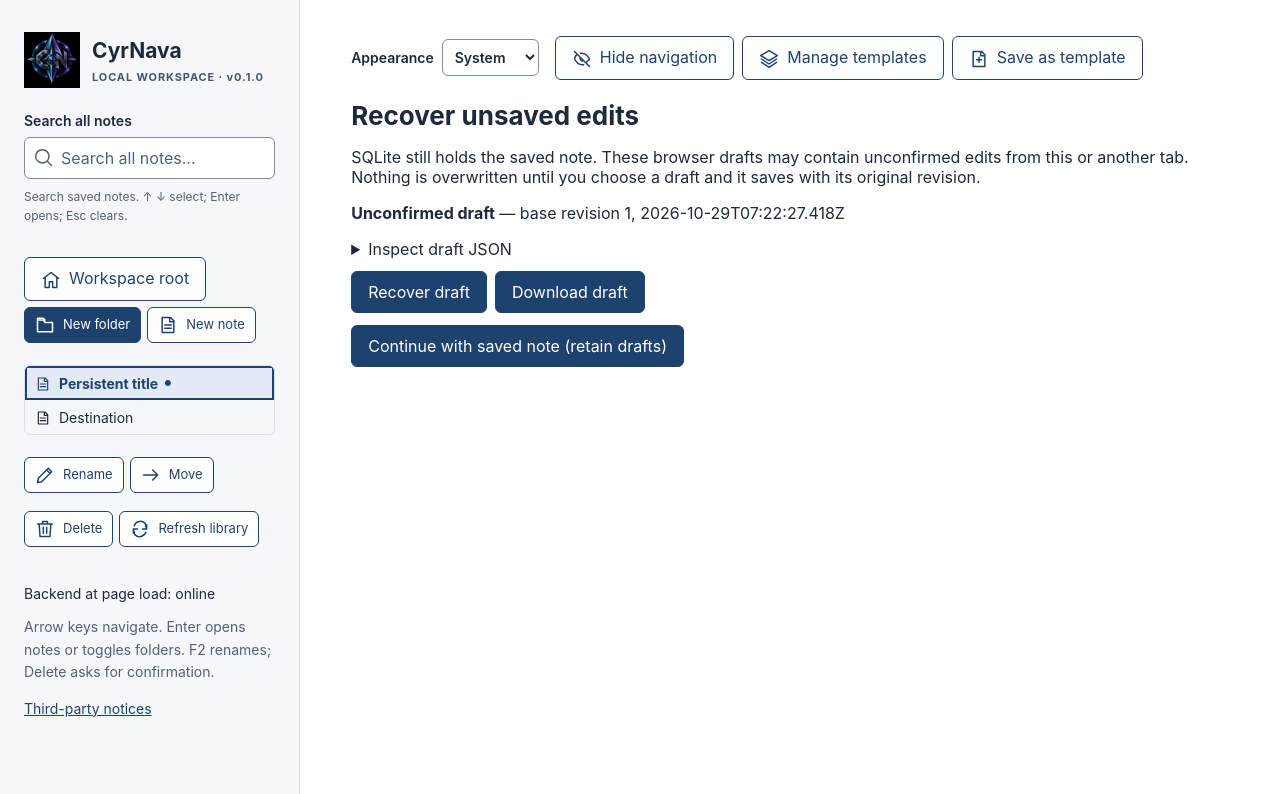
F-09 search navigation › cannot bypass pending draft recovery by choosing a search result
Type "matching" into the dropdown labelled "Search all notes" at (150, 158), box [24,137,275,179]
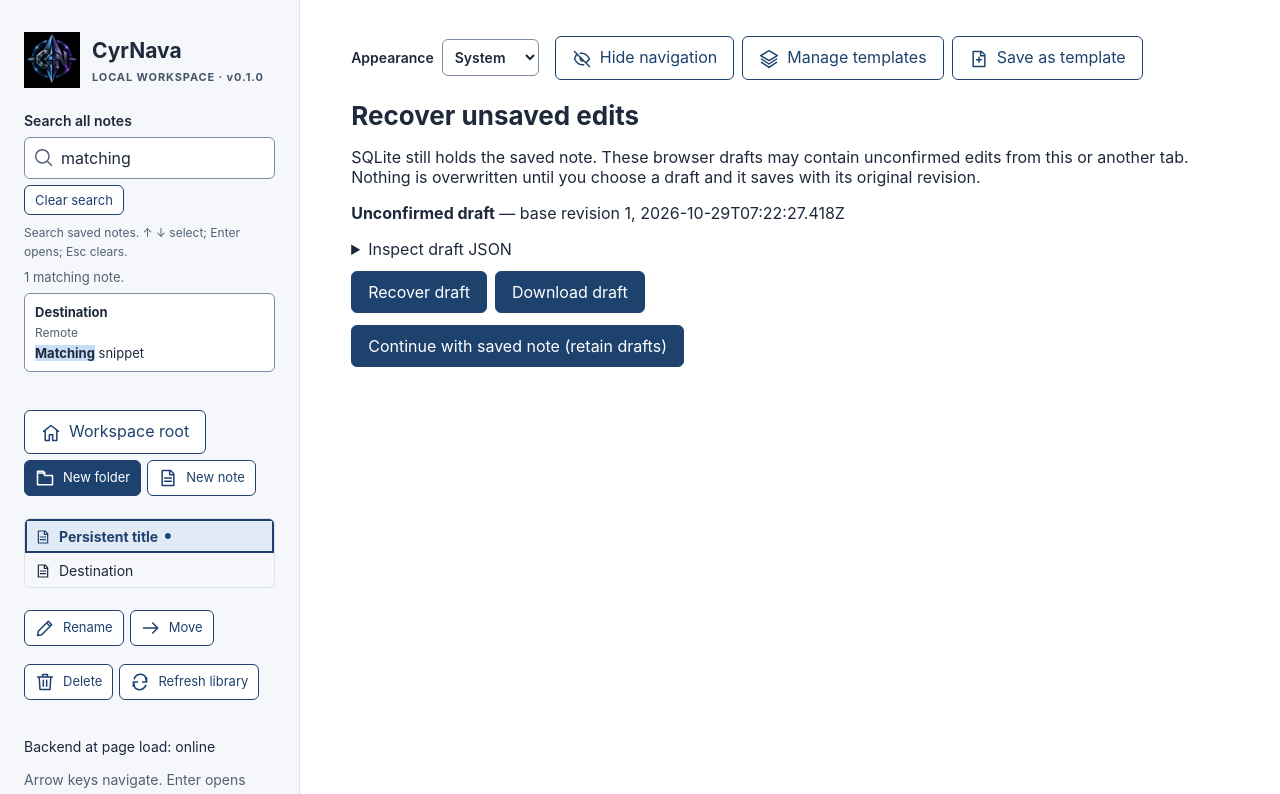
Click the option "Destination Remote Matching snippet" at (150, 333), box [24,293,275,372]
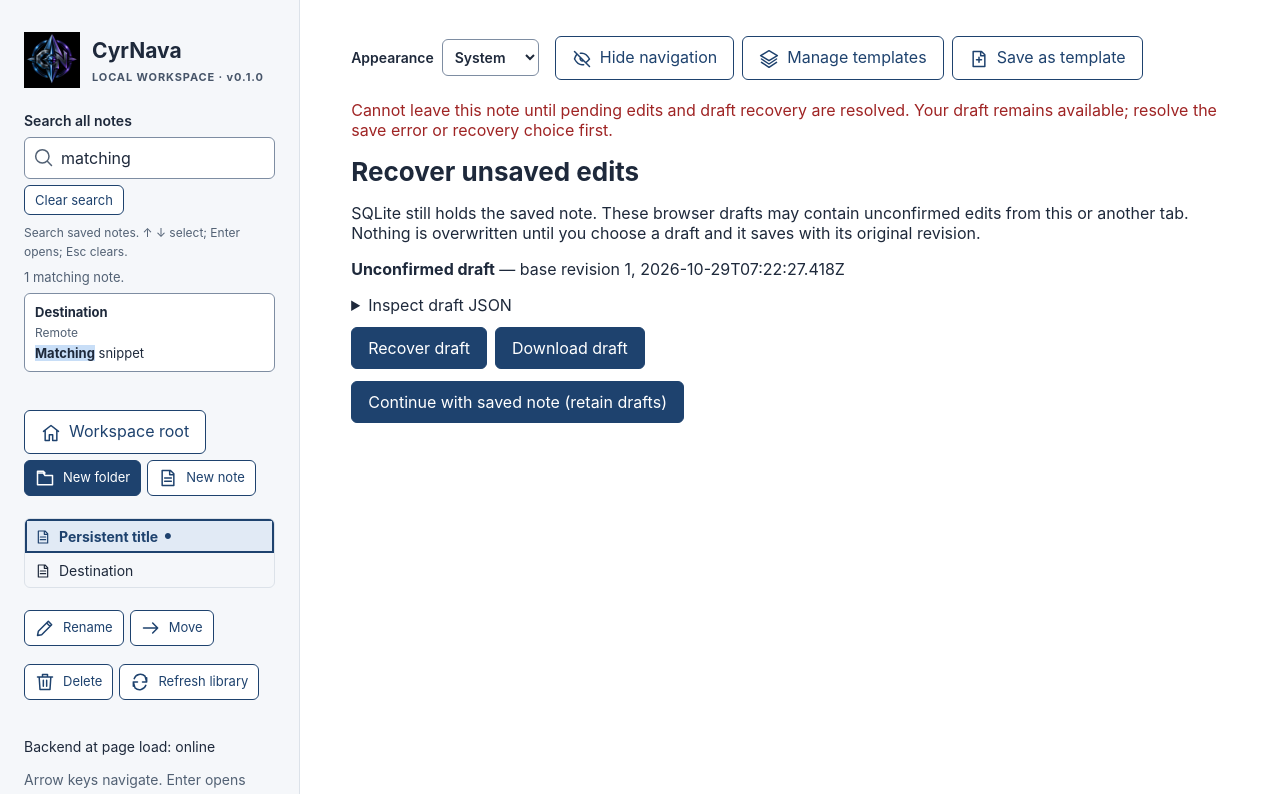
Now the text "Cannot leave this note until pending edits" is shown, box [351,100,1217,140]
